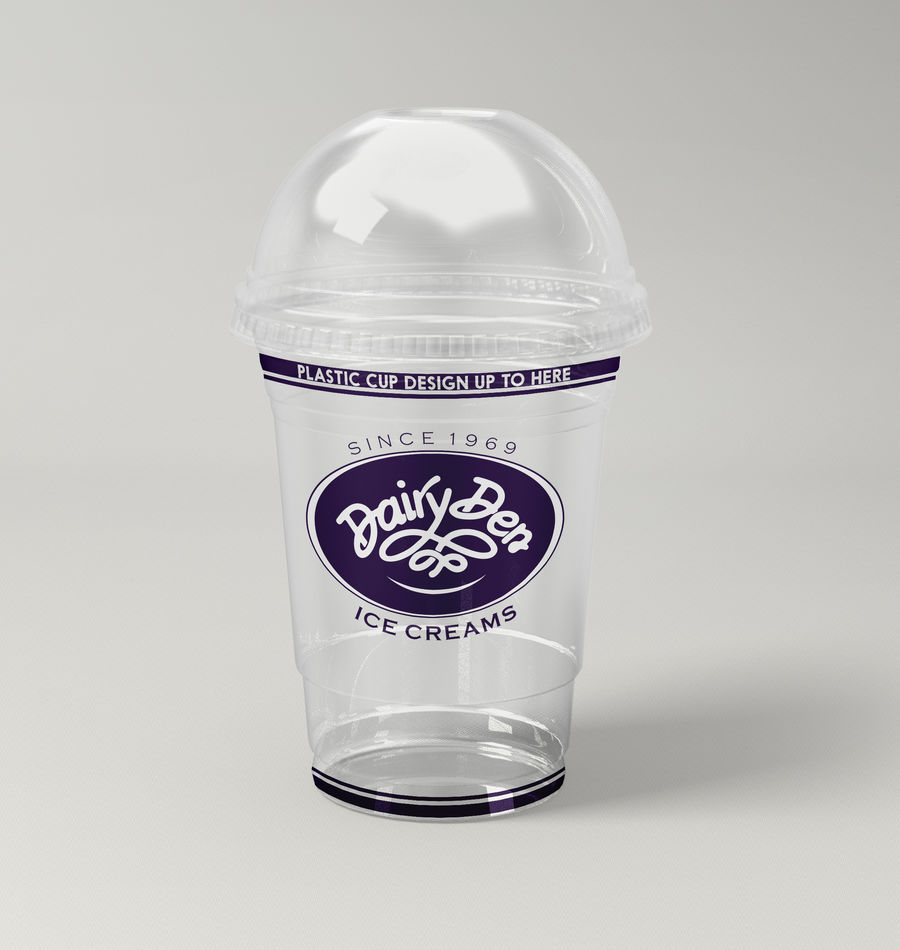plastic_bottle: (221, 93, 672, 849)
